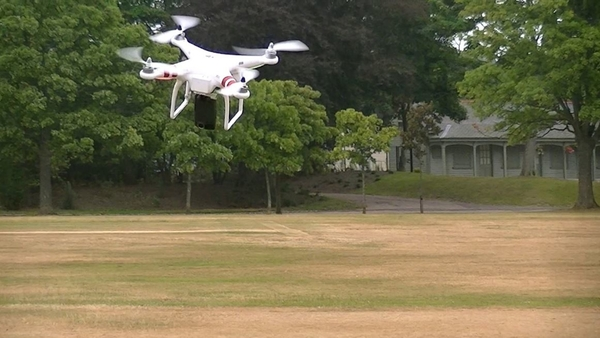drone: (115, 13, 311, 132)
